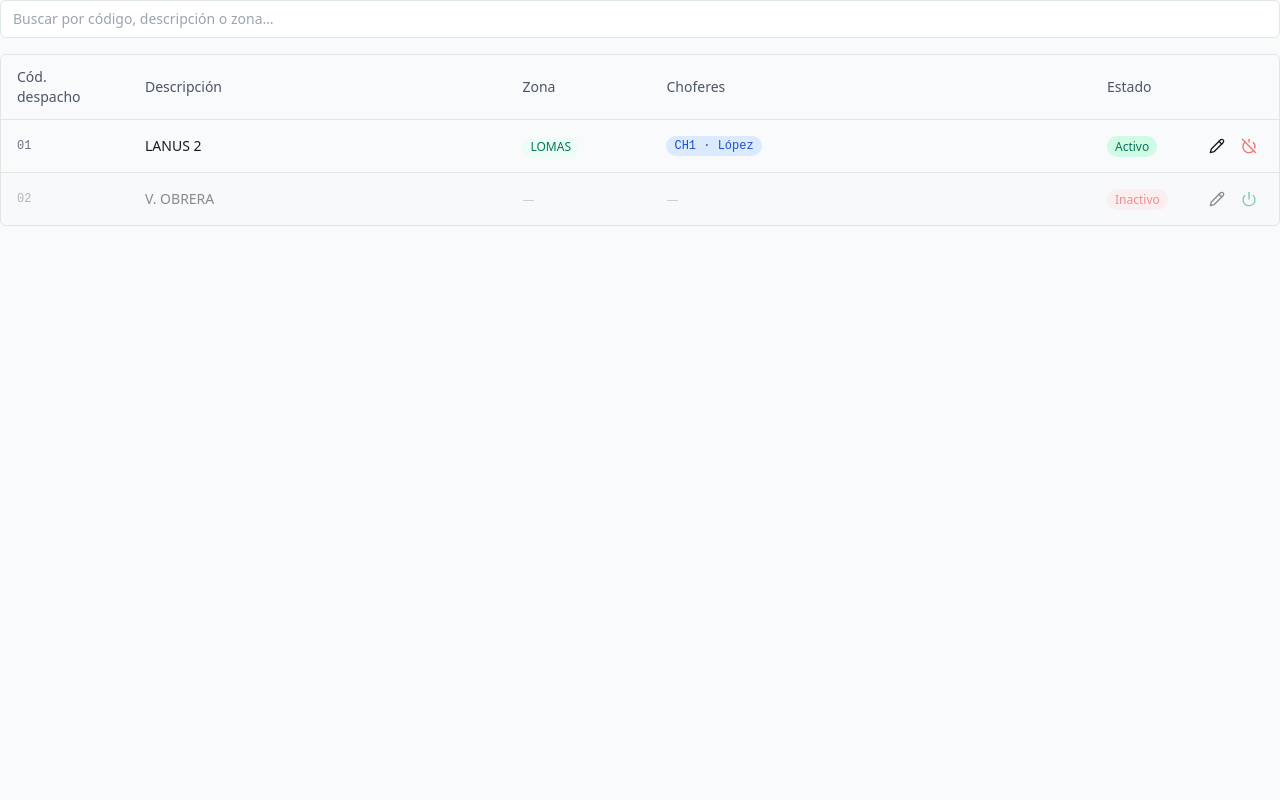
Scenario: RutasTab › al editar el SEGUNDO código, usa su versión ACTUALIZADA (no la primera del array)
Later steps or results of the test are not shown.
Orden renderizado: activos primero → LANUS 2 (índice 0), luego V. OBRERA (índice 1)
Click the button titled "Editar" in the row of "02" at (1217, 199), box [1203,185,1231,213]
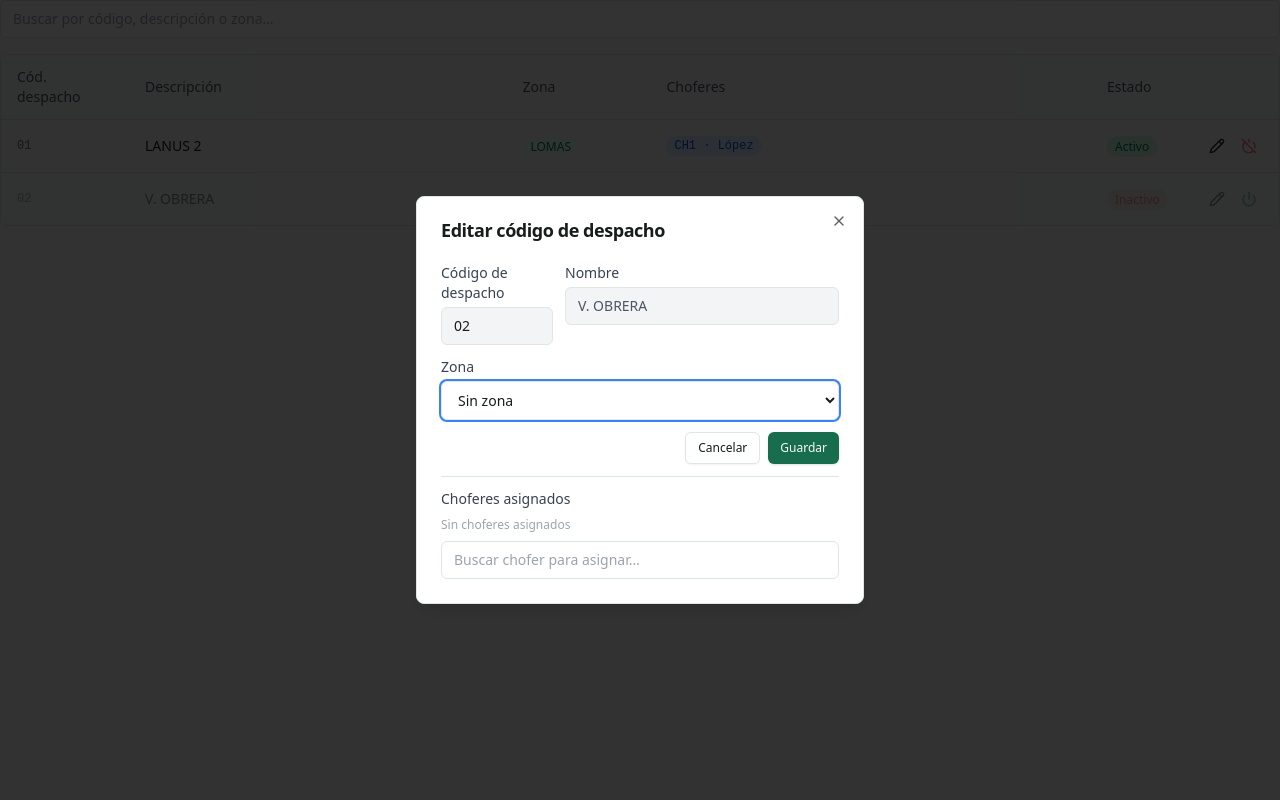
Check: the field showing "02" is shown, box [441,307,553,345]
